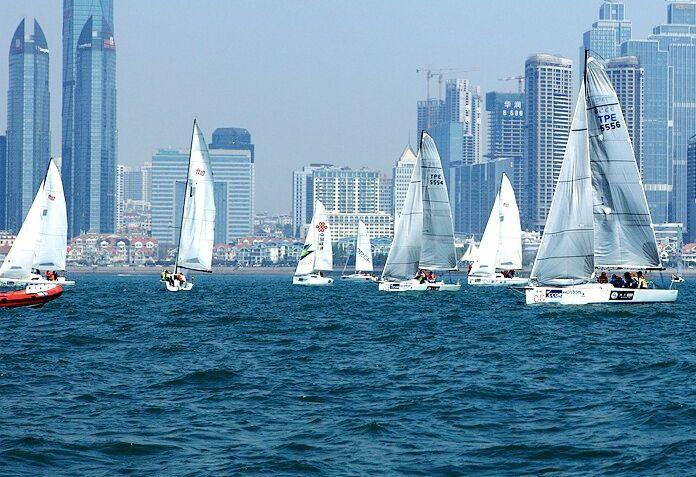fanchuan: (521, 48, 684, 309), (378, 128, 464, 294), (160, 120, 226, 294), (1, 157, 74, 310), (466, 172, 531, 288), (292, 198, 339, 288), (341, 223, 376, 281)
